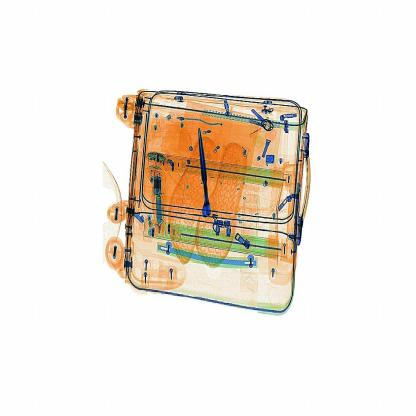gun: (196, 126, 221, 230)
